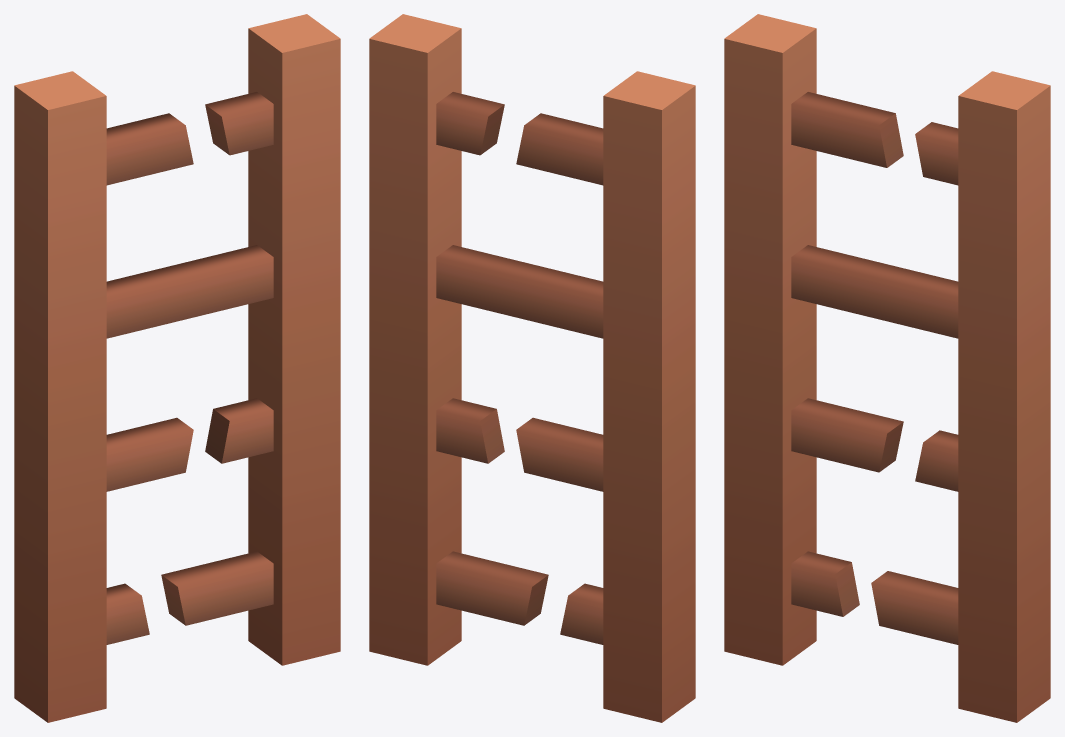
File: kenney-platformer-ladder-broken.glb
3 views of the same model, side by side, from view 1: azimuth 30°, elevation 25°; view 2: azimuth 150°, elevation 25°; view 3: azimuth 330°, elevation 25° (orthographic).
Visible parts, largest first — view 1: ladder-broken; view 2: ladder-broken; view 3: ladder-broken.
Boxes of the visible parts, x1,y1,x2,y2 form: ladder-broken: [14, 14, 340, 722]; ladder-broken: [369, 14, 695, 722]; ladder-broken: [724, 14, 1050, 722].
Size of the model in its own units: 0.5001 by 1 by 0.1.
Materials: 1 (1 with a texture image).
